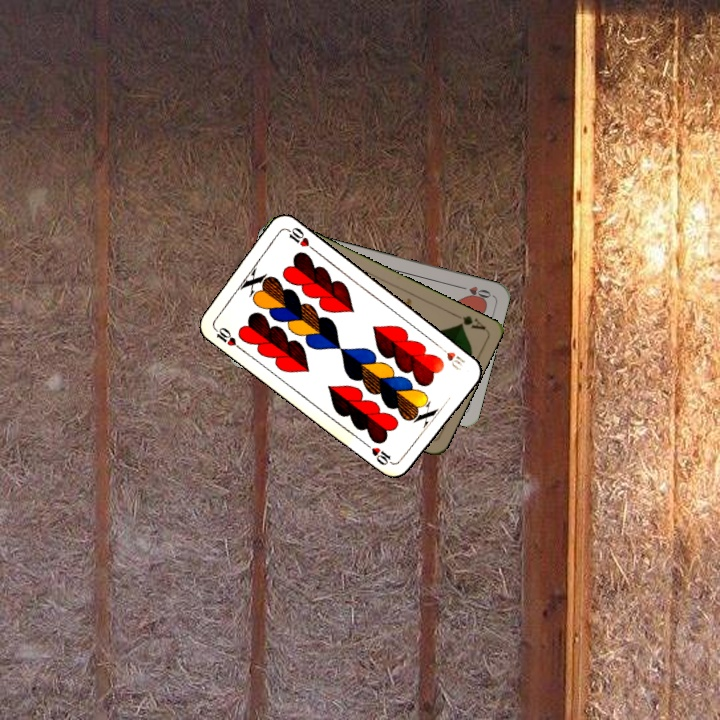GA: (449, 309, 488, 332)
H10: (434, 341, 468, 373), (209, 323, 244, 353)
HO: (454, 282, 494, 302)
